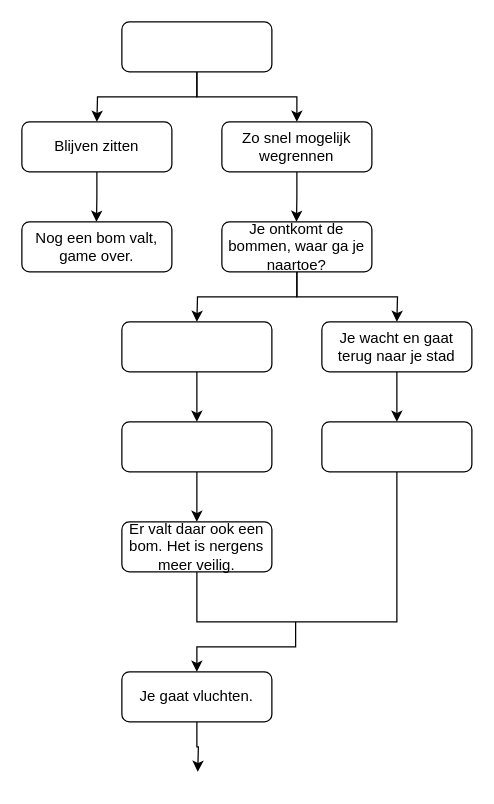
This 494x804 diagram has some shape labels left out. The centre of each missing label's shape, as x and y in pixels:
"Bom valt" goes at (x=196, y=46).
"Een andere stad" goes at (x=196, y=346).
"Er valt nog een bom, het is niet veilig hier." goes at (x=396, y=446).
"Je overnacht bij een vriend na 6 uur rijden naar zijn woonplaats.." goes at (x=196, y=446).
